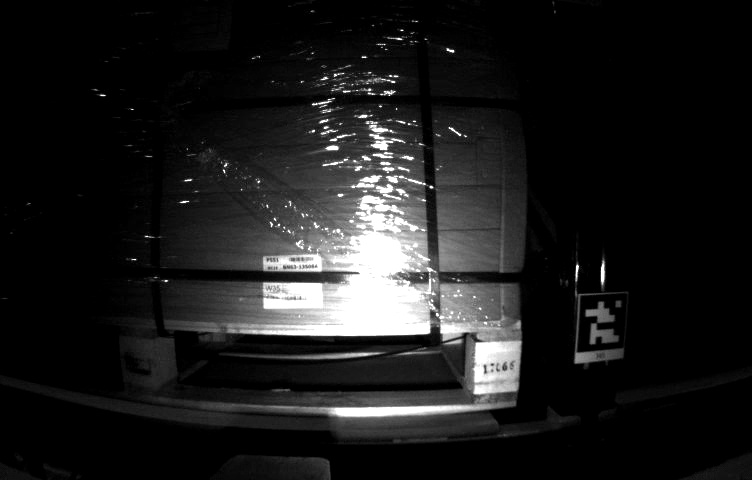True Barcode: (264, 254, 325, 306)
